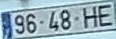4: (46, 10, 59, 32)
6: (25, 12, 37, 34)
8: (59, 8, 72, 30)
9: (13, 13, 25, 36)
E: (97, 3, 113, 28)
H: (81, 5, 98, 30)
